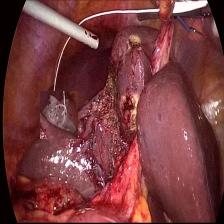Bipolar: (174, 16, 204, 40)
Irrigator: (74, 24, 100, 52)
Specimen Bag: (40, 91, 78, 139)
